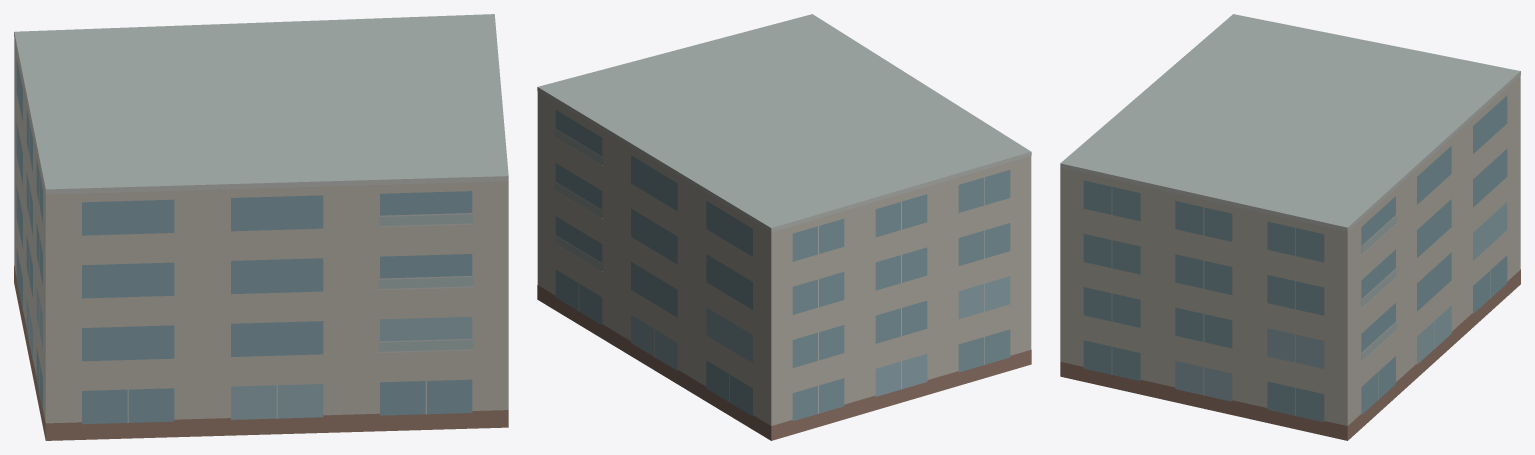
File: residential-1a43a009-39ca-42e7-93dc-742533ed49d4.glb
3 views of the same model, side by side, from view 1: azimuth 30°, elevation 25°; view 2: azimuth 150°, elevation 25°; view 3: azimuth 270°, elevation 25° (orthographic). The views are drawn at different scales.
Parts seen in each view (by area): view 1: residential-1a43a009-39ca-42e7-93dc-742533ed49d4.tmp; view 2: residential-1a43a009-39ca-42e7-93dc-742533ed49d4.tmp; view 3: residential-1a43a009-39ca-42e7-93dc-742533ed49d4.tmp.
Part boxes in pixels (x1,y1,x2,y2): residential-1a43a009-39ca-42e7-93dc-742533ed49d4.tmp: (14,14,508,440); residential-1a43a009-39ca-42e7-93dc-742533ed49d4.tmp: (537,14,1031,440); residential-1a43a009-39ca-42e7-93dc-742533ed49d4.tmp: (1060,14,1520,440).
Bounding box in the file's own units: 26.23 × 12.2 × 23.89.
